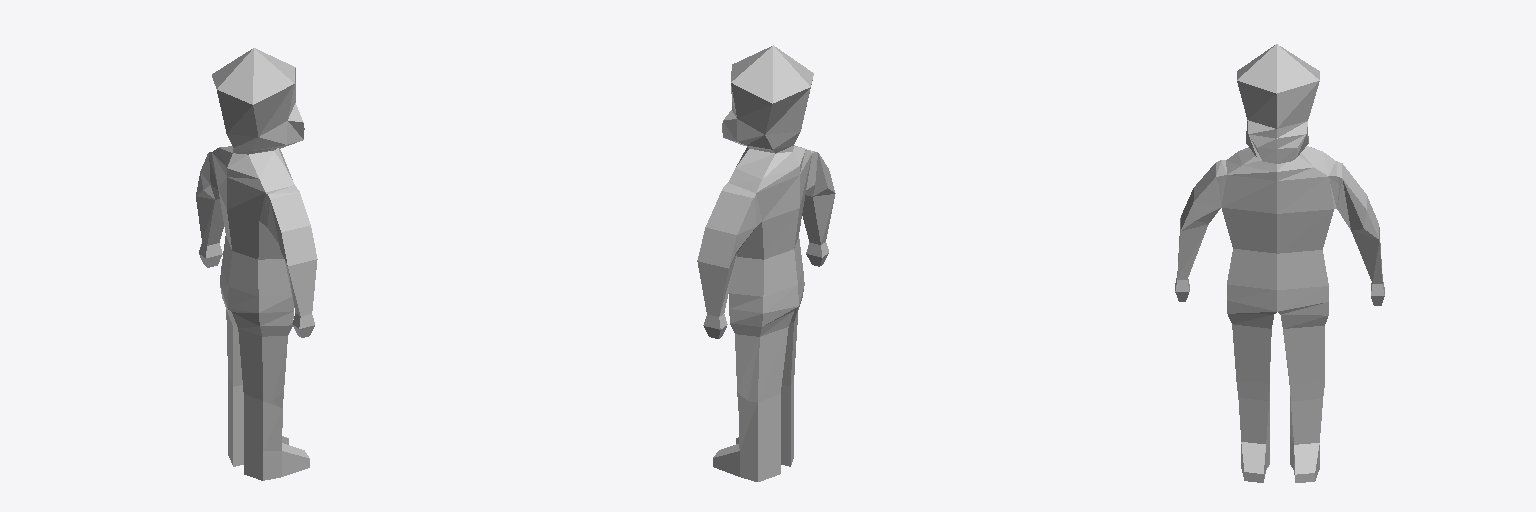
File: Male1.obj
3 renders of one model, left to right at view 1: azimuth 30°, elevation 25°; view 2: azimuth 150°, elevation 25°; view 3: azimuth 270°, elevation 25°, orthographic.
Visible parts, largest first — view 1: pCylinder2; view 2: pCylinder2; view 3: pCylinder2.
Part boxes in pixels (x1,y1,x2,y2): pCylinder2: (196, 48, 317, 480); pCylinder2: (697, 45, 835, 481); pCylinder2: (1175, 44, 1384, 482).
Bounding box in the file's own units: 1.98 × 9.66 × 4.36.